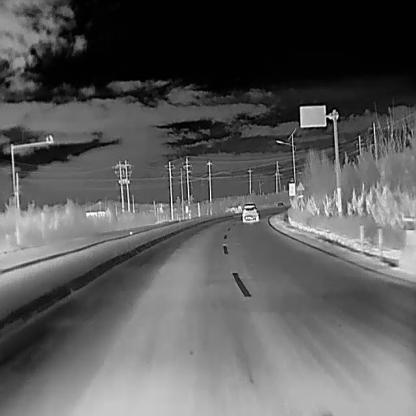car: (242, 202, 258, 222), (277, 202, 283, 206)
